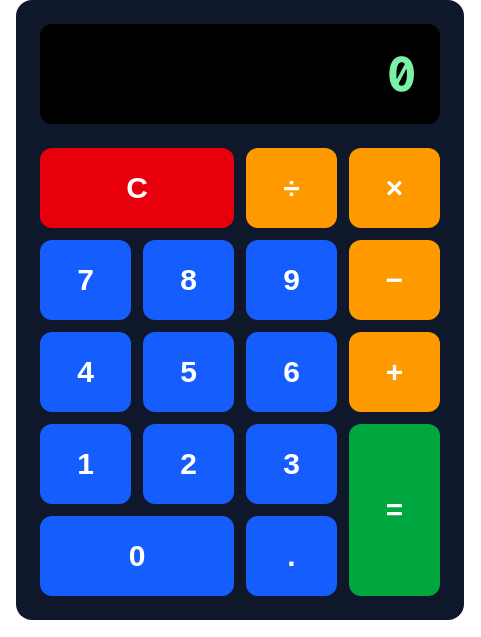
Calculator Component › AC-1: Calculations via UI › performs addition and displays result
The image size is (481, 637).
Click the button "5".
click(188, 372)  # box [143,332,234,412]
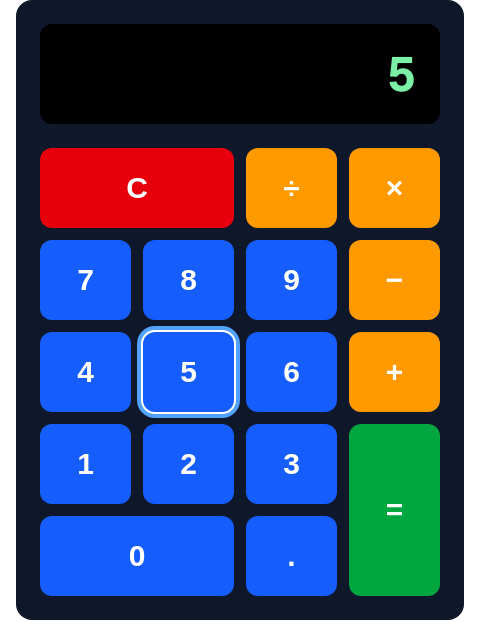
Click the button named "Add".
click(394, 372)  # box [349,332,440,412]
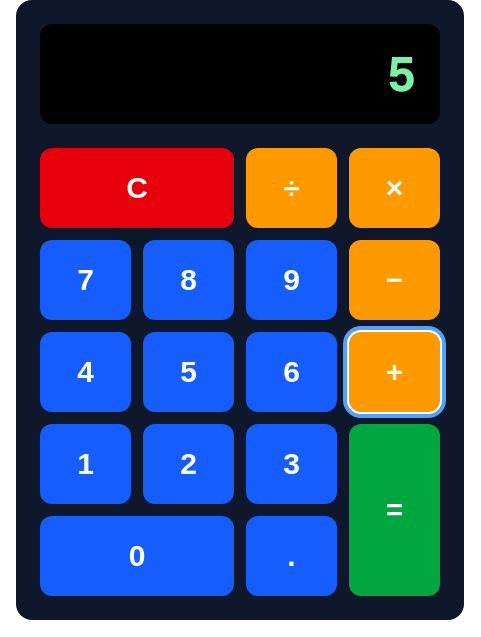
Click the button "3".
click(292, 464)  # box [246,424,337,504]
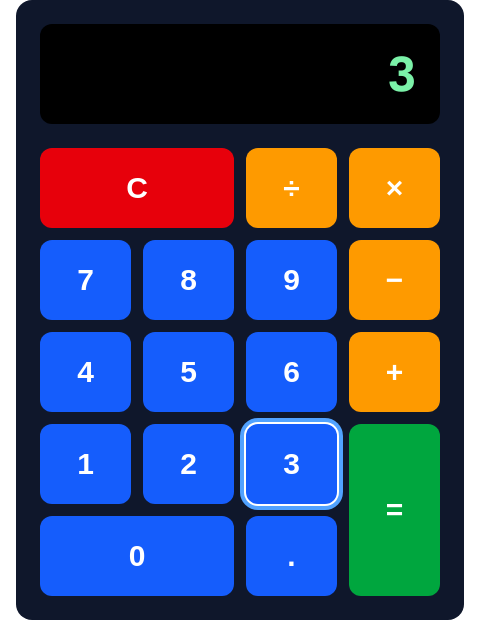
Click the button named "Equals".
click(394, 510)  # box [349,424,440,596]
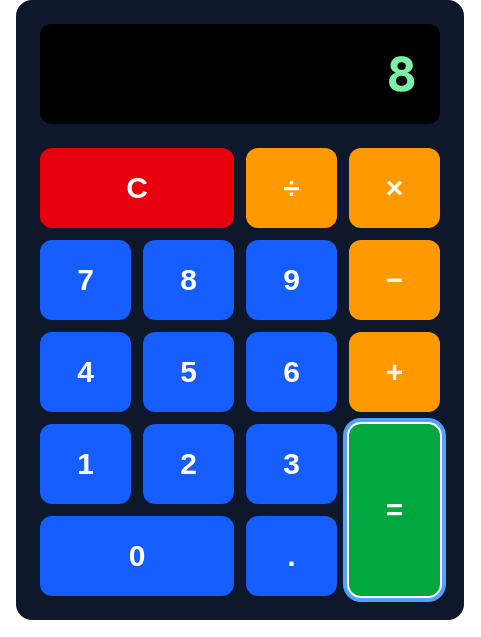
Result: the text with test id "calculator-display" reads "8" at [387,43,416,105]
